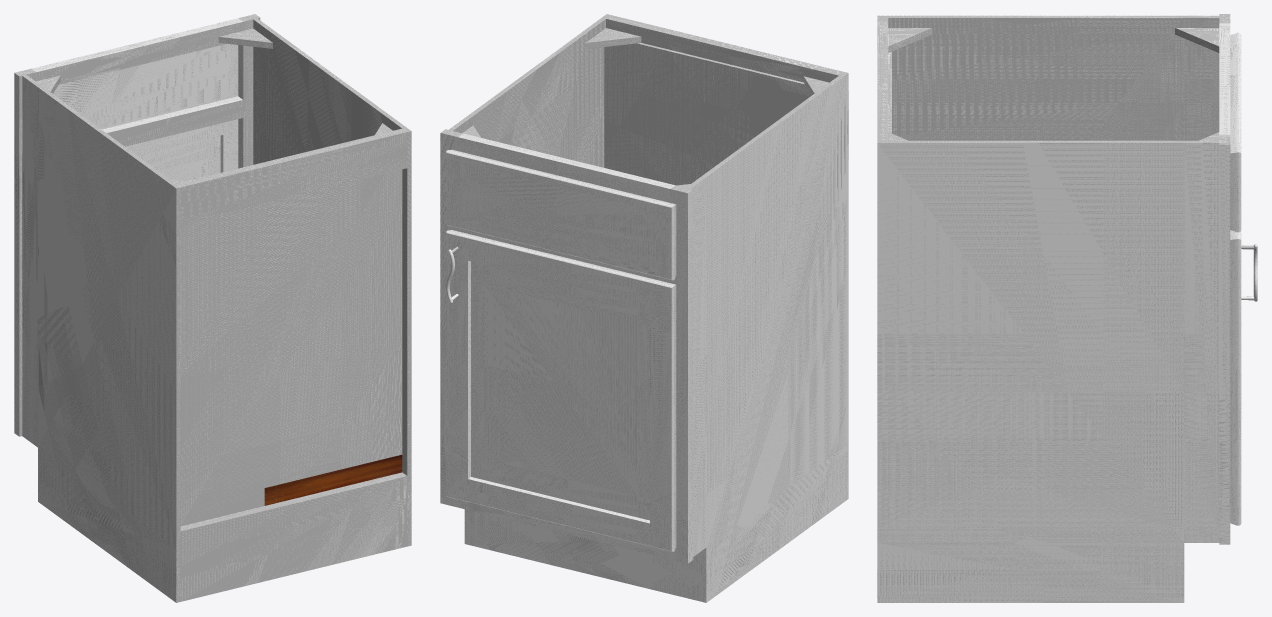
3 renders of one model, left to right at view 1: azimuth 30°, elevation 25°; view 2: azimuth 150°, elevation 25°; view 3: azimuth 270°, elevation 25°, orthographic. The views are drawn at different scales.
Parts seen in each view (by area): view 1: mesh4_mesh4-geometry, mesh7_mesh7-geometry, mesh12_mesh12-geometry, mesh10_mesh10-geometry, mesh3_mesh3-geometry, mesh26_mesh26-geometry, mesh8_mesh8-geometry, mesh5_mesh5-geometry, mesh6_mesh6-geometry, mesh2_mesh2-geometry, mesh40_mesh40-geometry, mesh32_mesh32-geometry (+6 smaller); view 2: mesh7_mesh7-geometry, mesh36_mesh36-geometry, mesh4_mesh4-geometry, mesh10_mesh10-geometry, mesh27_mesh27-geometry, mesh2_mesh2-geometry, mesh13_mesh13-geometry, mesh8_mesh8-geometry, mesh32_mesh32-geometry, mesh33_mesh33-geometry, mesh5_mesh5-geometry, mesh35_mesh35-geometry (+12 smaller); view 3: mesh10_mesh10-geometry, mesh7_mesh7-geometry, mesh11_mesh11-geometry, mesh9_mesh9-geometry, mesh2_mesh2-geometry, mesh6_mesh6-geometry, mesh34_mesh34-geometry, mesh3_mesh3-geometry, mesh5_mesh5-geometry, mesh22_mesh22-geometry, mesh24_mesh24-geometry, mesh16_mesh16-geometry (+3 smaller).
Boxes of the visible parts, box(x1,y1,x2,y2) form: mesh4_mesh4-geometry: box(180, 169, 402, 526); mesh7_mesh7-geometry: box(38, 86, 180, 548); mesh12_mesh12-geometry: box(180, 472, 407, 601); mesh10_mesh10-geometry: box(269, 30, 411, 492); mesh3_mesh3-geometry: box(176, 128, 407, 223); mesh26_mesh26-geometry: box(53, 43, 227, 127); mesh8_mesh8-geometry: box(38, 448, 180, 602); mesh5_mesh5-geometry: box(32, 18, 243, 146); mesh6_mesh6-geometry: box(22, 74, 41, 447); mesh2_mesh2-geometry: box(14, 14, 260, 436); mesh40_mesh40-geometry: box(264, 454, 402, 505); mesh32_mesh32-geometry: box(125, 126, 209, 170); mesh7_mesh7-geometry: box(702, 72, 848, 546); mesh36_mesh36-geometry: box(484, 285, 637, 496); mesh4_mesh4-geometry: box(604, 43, 811, 185); mesh10_mesh10-geometry: box(465, 14, 610, 167); mesh27_mesh27-geometry: box(463, 164, 654, 267); mesh2_mesh2-geometry: box(440, 129, 693, 563); mesh13_mesh13-geometry: box(469, 510, 701, 601); mesh8_mesh8-geometry: box(702, 443, 848, 602); mesh32_mesh32-geometry: box(482, 238, 640, 322); mesh33_mesh33-geometry: box(482, 459, 637, 542); mesh5_mesh5-geometry: box(458, 133, 674, 559); mesh35_mesh35-geometry: box(638, 323, 676, 506); mesh10_mesh10-geometry: box(877, 140, 1184, 542); mesh7_mesh7-geometry: box(877, 15, 1184, 140); mesh11_mesh11-geometry: box(877, 543, 1184, 602); mesh9_mesh9-geometry: box(1184, 140, 1219, 542); mesh2_mesh2-geometry: box(1219, 14, 1230, 544); mesh6_mesh6-geometry: box(1184, 15, 1219, 140); mesh34_mesh34-geometry: box(1230, 288, 1241, 476); mesh3_mesh3-geometry: box(877, 18, 888, 140); mesh5_mesh5-geometry: box(1219, 23, 1230, 135); mesh22_mesh22-geometry: box(1230, 42, 1241, 144); mesh24_mesh24-geometry: box(1230, 160, 1241, 223); mesh16_mesh16-geometry: box(1175, 28, 1219, 52).
Size of the model in its own units: 0.4378 by 0.7193 by 0.5394.
